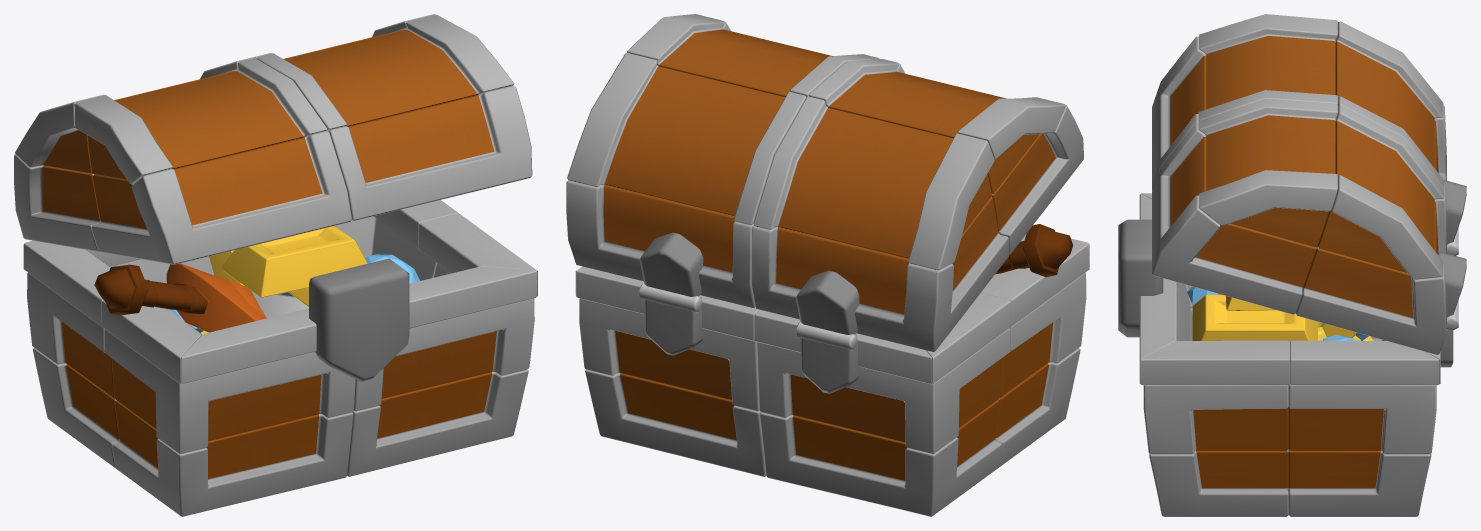
File: level_182.fbx
3 views of the same model, side by side, from view 1: azimuth 30°, elevation 25°; view 2: azimuth 150°, elevation 25°; view 3: azimuth 270°, elevation 25° (orthographic). The views are drawn at different scales.
Parts seen in each view (by area): view 1: Cube_L1_5.001, Cube_L1_4.001, Cube_L1_1.001, Cube_L4_5.001, Cube_L1.001, Cube_L4_1.001, Cube_L4_4.001, Cube_L4.001, Cube_L2.001, Cube_L4_2.001, Cube_L1_7.001, Cube_L3.001 (+11 smaller); view 2: Cube_L1_6.001, Cube_L1_2.001, Cube_L1_7.001, Cube_L4_6.001, Cube_L4_2.001, Cube_L1_3.001, Cube_L1_4.001, Cube_L4_7, Cube_L4_3.001, Cube_L1.001, Cube_L1_5.001, Cube_L4_1.001 (+10 smaller); view 3: Cube_L1.001, Cube_L1_1.001, Cube_L1_2.001, Cube_L1_4.001, Cube_L1_3.001, Cube_L4_3.001, Cube_L4.001, Cube_L4_7, Cube_L4_4.001, Cube_L1_6.001, Cube_L2_6.001, Cube_L2_7.001 (+10 smaller).
Part boxes in pixels (box(x1,y1,x2,y2)): Cube_L1_5.001: box(91, 130, 351, 264); Cube_L1_4.001: box(74, 57, 327, 184); Cube_L1_1.001: box(328, 85, 532, 220); Cube_L4_5.001: box(112, 400, 353, 516); Cube_L1.001: box(257, 14, 514, 130); Cube_L4_1.001: box(104, 329, 355, 453); Cube_L4_4.001: box(347, 369, 528, 476); Cube_L4.001: box(354, 263, 534, 411); Cube_L2.001: box(309, 258, 409, 381); Cube_L4_2.001: box(27, 256, 213, 398); Cube_L1_7.001: box(14, 154, 100, 251); Cube_L3.001: box(221, 226, 367, 297); Cube_L1_6.001: box(753, 96, 994, 270); Cube_L1_2.001: box(567, 53, 806, 225); Cube_L1_7.001: box(751, 197, 1008, 351); Cube_L4_6.001: box(760, 399, 1002, 516); Cube_L4_2.001: box(757, 328, 1010, 454); Cube_L1_3.001: box(566, 180, 755, 307); Cube_L1_4.001: box(808, 59, 1065, 193); Cube_L4_7: box(585, 369, 766, 476); Cube_L4_3.001: box(579, 298, 759, 411); Cube_L1.001: box(627, 14, 878, 97); Cube_L1_5.001: box(897, 63, 1083, 254); Cube_L4_1.001: box(1000, 272, 1086, 397); Cube_L1.001: box(1198, 99, 1338, 247); Cube_L1_1.001: box(1152, 123, 1316, 314); Cube_L1_2.001: box(1318, 105, 1444, 279); Cube_L1_4.001: box(1198, 14, 1338, 120); Cube_L1_3.001: box(1296, 192, 1446, 354); Cube_L4_3.001: box(1288, 384, 1436, 454); Cube_L4.001: box(1143, 323, 1288, 454); Cube_L4_7: box(1288, 449, 1431, 516); Cube_L4_4.001: box(1149, 449, 1288, 516); Cube_L1_6.001: box(1336, 21, 1444, 188); Cube_L2_6.001: box(1141, 340, 1290, 385); Cube_L2_7.001: box(1290, 340, 1439, 385).
Bounding box in the file's own units: 15.93 × 13.8 × 12.72.
